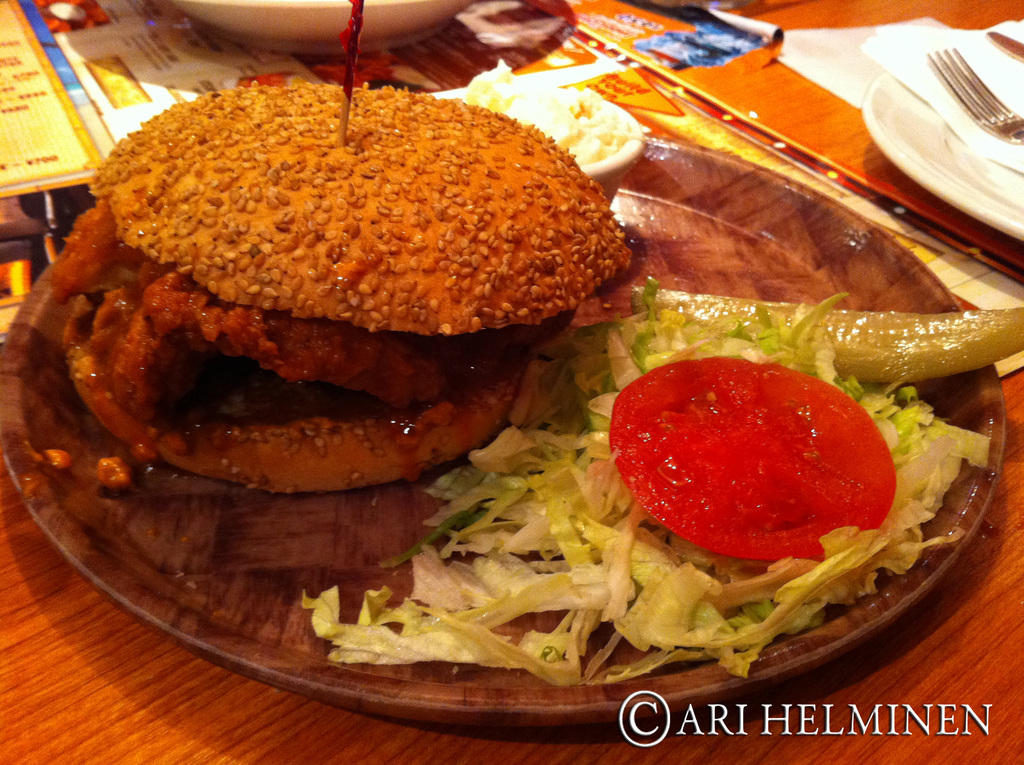Hamburger: (52, 80, 629, 498)
